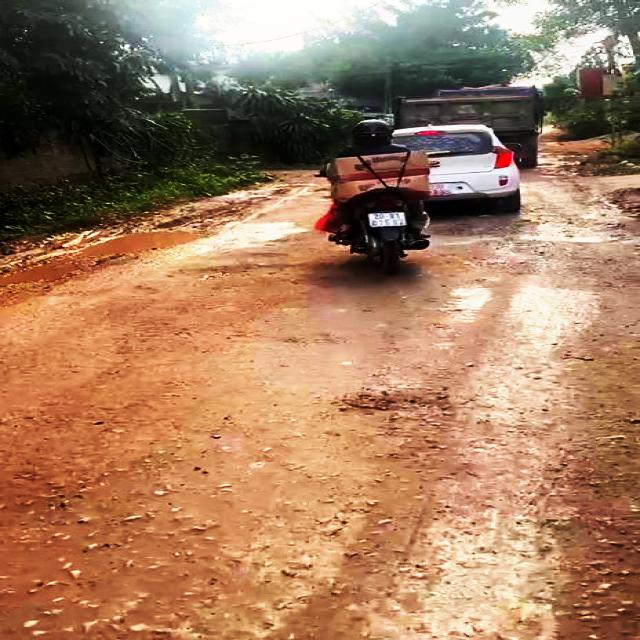pothole: (3, 227, 219, 290)
